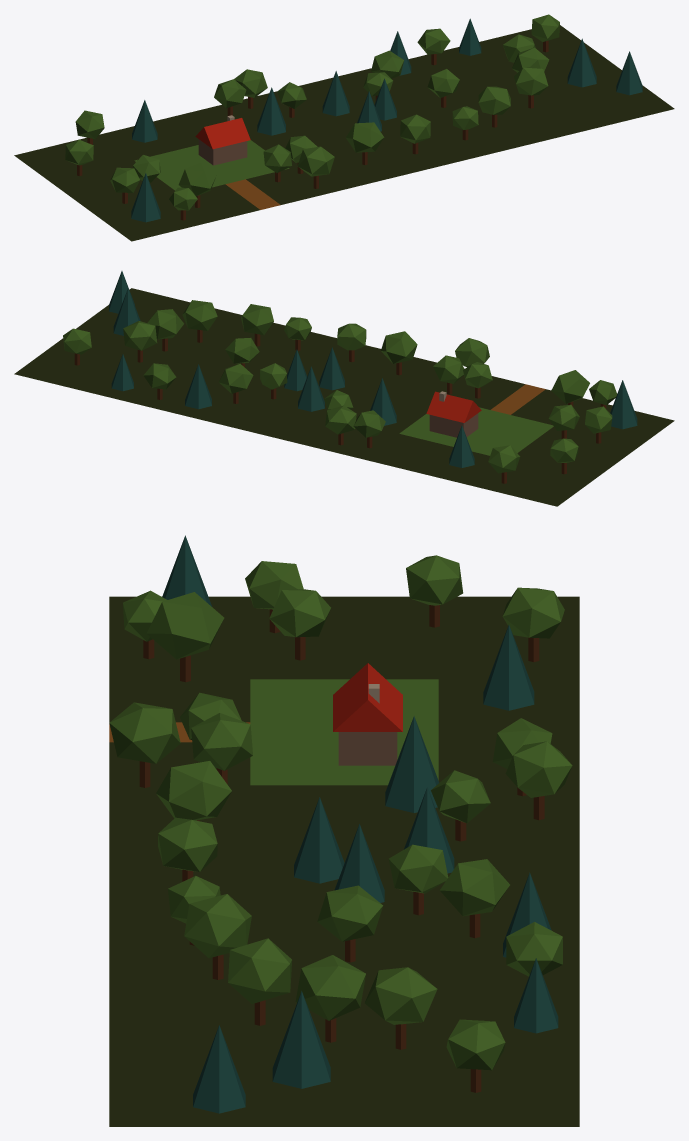
File: woodsA.glb
3 renders of one model, top to bottom at view 1: azimuth 30°, elevation 25°; view 2: azimuth 150°, elevation 25°; view 3: azimuth 270°, elevation 25°, orthographic. The views are drawn at different scales.
Parts seen in each view (by area): view 1: P3, P2, P1, P4, P8, P6, P5, R10, C79, N64, N24, C71 (+32 smaller); view 2: P3, P2, P8, P1, P4, P6, P5, R10, C79, C15, N64, C73 (+32 smaller); view 3: P3, P2, P1, P8, P4, P5, R10, C15, N24, C71, C79, C63 (+31 smaller).
Part boxes in pixels (x1,y1,x2,y2): P3: (213,27,674,194); P2: (20,139,215,241); P1: (134,140,289,190); P4: (105,112,225,160); P8: (14,25,562,159); P6: (246,168,324,204); P5: (194,184,259,220); R10: (195,118,250,149); C79: (346,122,384,152); N64: (131,173,160,222); N24: (567,38,596,87); C71: (297,146,334,176); P3: (20,288,466,455); P2: (478,400,674,502); P8: (14,370,562,506); P1: (399,407,553,455); P4: (370,433,494,481); P6: (451,376,525,409); P5: (511,389,589,425); R10: (426,391,481,422); C79: (381,331,417,363); C15: (551,370,589,403); N64: (610,380,637,429); C73: (182,300,217,330); P3: (109,785,556,1126); P2: (109,596,556,679); P1: (250,679,438,785); P8: (556,596,579,1126); P4: (438,679,556,785); P5: (109,679,250,722); R10: (333,663,402,731); C15: (146,592,224,659); N24: (272,991,330,1088); C71: (109,702,180,763); C79: (156,761,231,820); C63: (295,955,365,1020).
Bounding box in the file's own units: 16 × 1.32 × 6.
